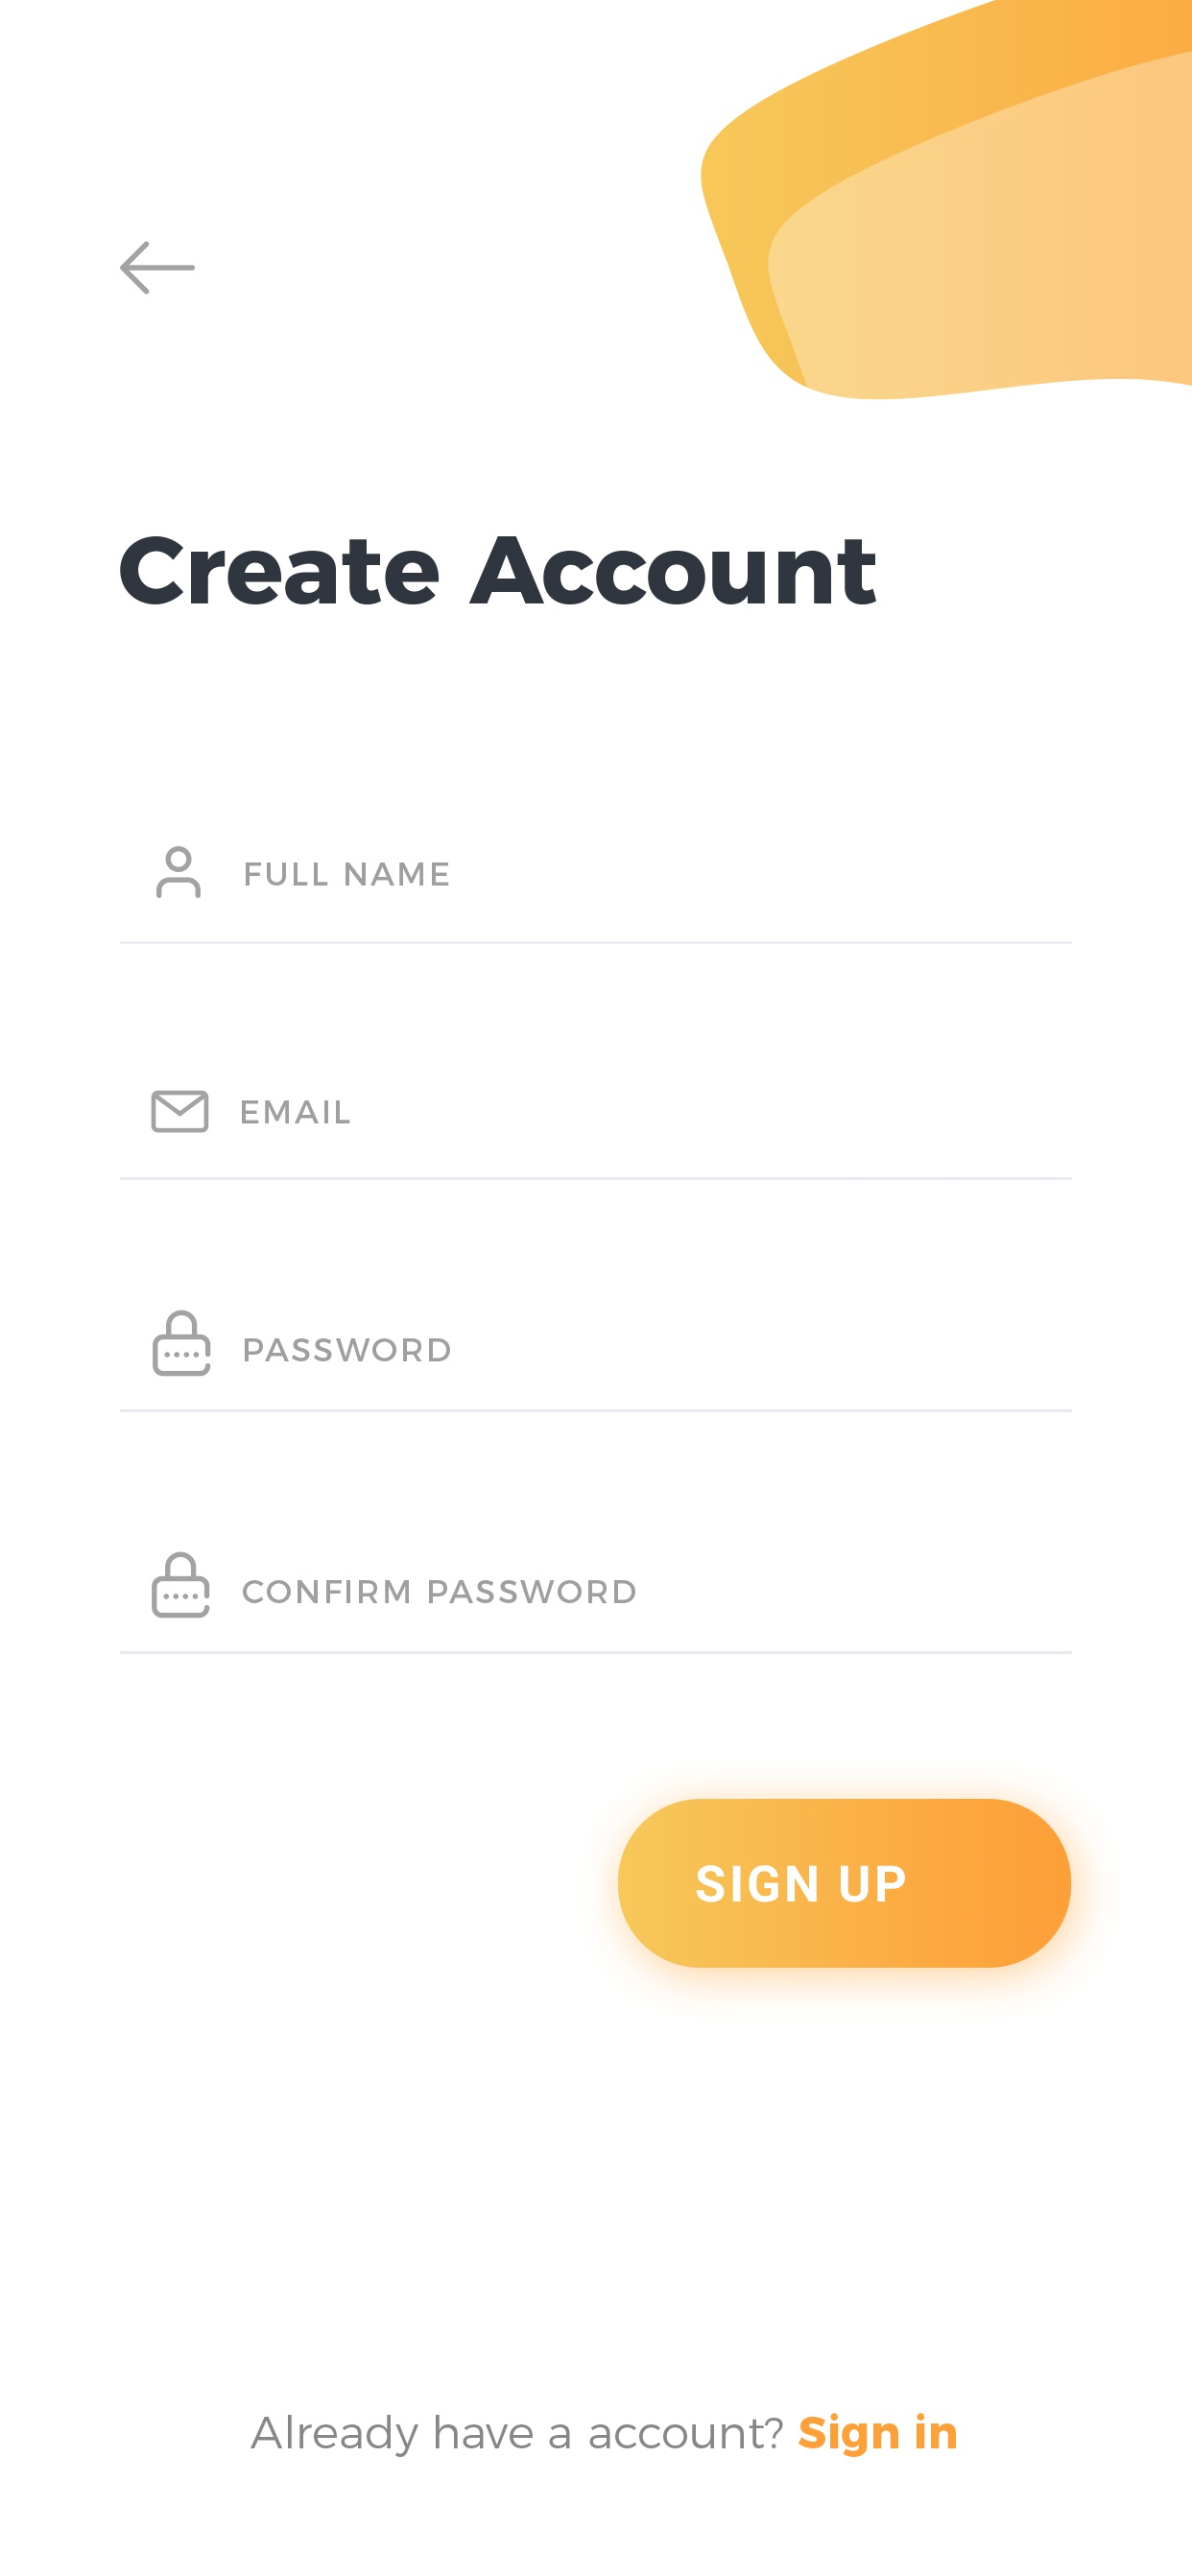EditText: (120, 1309, 1074, 1413), (120, 1551, 1074, 1654), (120, 846, 1074, 946), (120, 1089, 1074, 1181)
Icon: (120, 241, 197, 296), (151, 1551, 210, 1620), (153, 1309, 212, 1378), (151, 1089, 210, 1134), (156, 846, 202, 900)
Text: (120, 536, 878, 606), (250, 2412, 957, 2458), (243, 1579, 636, 1603), (245, 861, 450, 887), (243, 1337, 450, 1362), (242, 1101, 352, 1125)
TextButton: (617, 1797, 1072, 1968)
